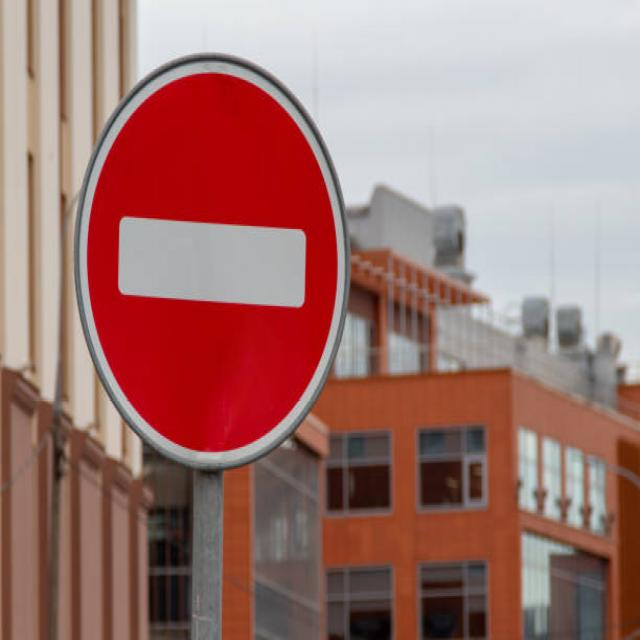do_not_enter: (68, 36, 361, 476)
